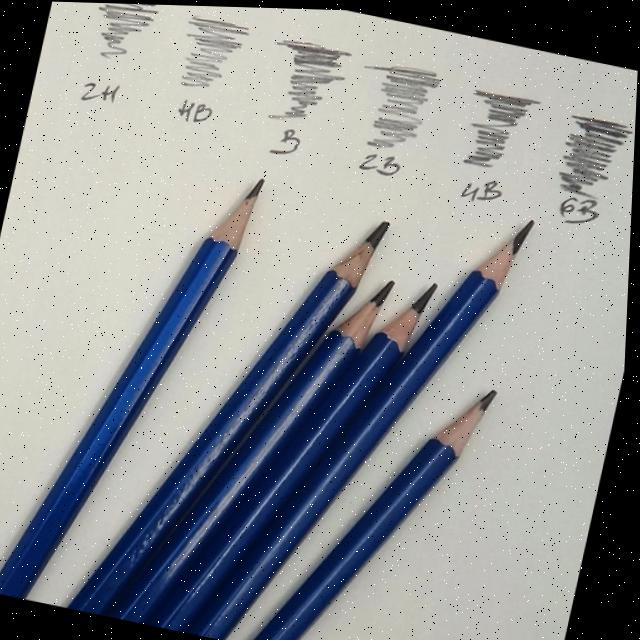pencil: (192, 210, 542, 640), (62, 208, 395, 615), (0, 166, 271, 601), (151, 276, 440, 630), (115, 272, 399, 623), (253, 382, 505, 640)
